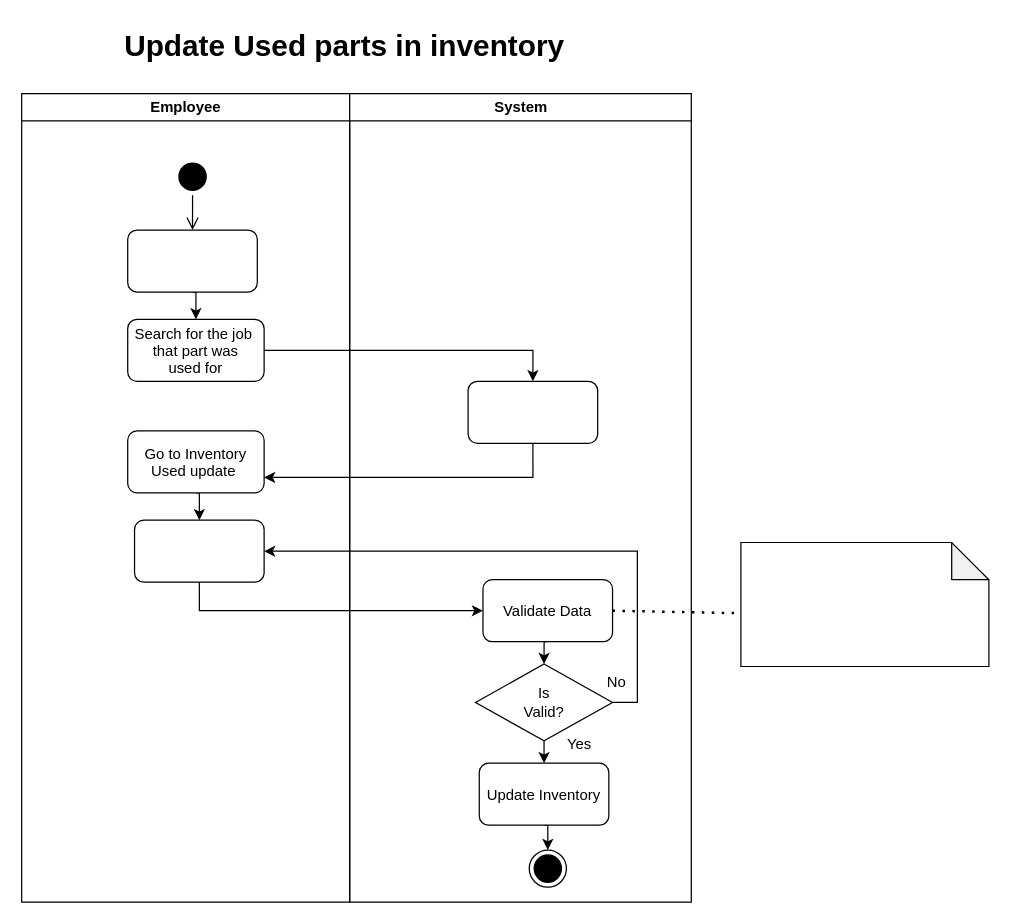
Some shapes in this 1011 by 924 pixel diagram are drawn without their labels. The shapes that lost their labels are listed below. From the top down, each one's centre as x and y in pixels, then its label:
(x=191, y=260): Use a part from Inventory to Repair (Job)
(x=532, y=411): show the particular job
(x=198, y=550): Enter Part Details and Quantity Used
(x=864, y=603): Is Quantity > Existing Quantity and is Product Exist
